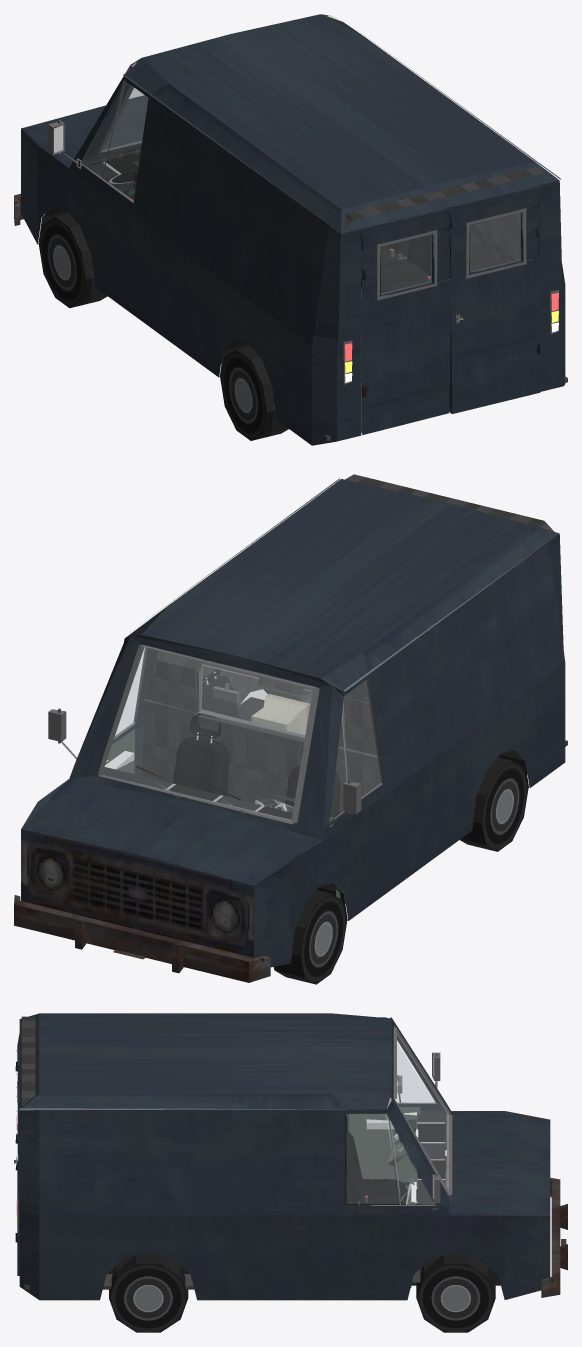
Rendered from rats_van.glb.
3 renders of one model, top to bottom at view 1: azimuth 30°, elevation 25°; view 2: azimuth 150°, elevation 25°; view 3: azimuth 270°, elevation 25°, orthographic. The views are drawn at different scales.
Visible parts, largest first — view 1: Van_Body, Van_Door_R_Body, Van_Door_L_Body, Van_Window_Cab_L, Lobby_Liner, Van_Wheel_RL, Van_Wheel_FL, Van_Door_Window_R, Van_Door_Window_L, Lobby_Seat_RR, Van_Windshield, Cab_Dashboard (+3 smaller); view 2: Van_Body, Van_Windshield, Lobby_Bulkhead, Van_Bumper_Front, Lobby_Bulkhead_Window, Van_Wheel_FL, Van_Window_Cab_L, Van_Wheel_RL, Van_Window_Frames, Cab_Seat_Passenger, Lobby_Liner, Cab_Dashboard (+9 smaller); view 3: Van_Body, Van_Window_Cab_R, Van_Wheel_FR, Van_Wheel_RR, Van_Windshield, Cab_DoorCard_L, Van_Window_Frames, Cab_Seat_Driver, Cab_Dashboard, Van_Bumper_Front, Lobby_Liner, Van_Window_Cab_L (+1 smaller).
Boxes of the visible parts, bbox=[...] form: Van_Body: bbox=[21, 14, 565, 445]; Van_Door_R_Body: bbox=[449, 185, 540, 413]; Van_Door_L_Body: bbox=[361, 207, 451, 434]; Van_Window_Cab_L: bbox=[81, 80, 147, 202]; Lobby_Liner: bbox=[221, 167, 552, 362]; Van_Wheel_RL: bbox=[220, 346, 288, 440]; Van_Wheel_FL: bbox=[39, 213, 107, 308]; Van_Door_Window_R: bbox=[466, 208, 526, 278]; Van_Door_Window_L: bbox=[377, 230, 437, 300]; Lobby_Seat_RR: bbox=[361, 207, 450, 292]; Van_Windshield: bbox=[102, 88, 147, 150]; Cab_Dashboard: bbox=[84, 153, 140, 200]; Van_Body: bbox=[21, 479, 565, 967]; Van_Windshield: bbox=[102, 647, 312, 820]; Lobby_Bulkhead: bbox=[142, 649, 383, 812]; Van_Bumper_Front: bbox=[14, 895, 270, 982]; Lobby_Bulkhead_Window: bbox=[194, 661, 312, 741]; Van_Wheel_FL: bbox=[273, 890, 346, 984]; Van_Window_Cab_L: bbox=[330, 679, 382, 821]; Van_Wheel_RL: bbox=[460, 757, 528, 851]; Van_Window_Frames: bbox=[98, 478, 551, 824]; Cab_Seat_Passenger: bbox=[172, 713, 229, 796]; Lobby_Liner: bbox=[142, 474, 554, 773]; Cab_Dashboard: bbox=[102, 767, 330, 822]; Van_Body: bbox=[19, 1013, 550, 1300]; Van_Window_Cab_R: bbox=[345, 1113, 434, 1205]; Van_Wheel_FR: bbox=[416, 1252, 495, 1332]; Van_Wheel_RR: bbox=[109, 1252, 188, 1332]; Van_Windshield: bbox=[395, 1033, 448, 1190]; Cab_DoorCard_L: bbox=[349, 1107, 420, 1182]; Van_Window_Frames: bbox=[19, 1017, 452, 1195]; Cab_Seat_Driver: bbox=[345, 1114, 407, 1205]; Cab_Dashboard: bbox=[407, 1114, 445, 1204]; Van_Bumper_Front: bbox=[541, 1177, 567, 1297]; Lobby_Liner: bbox=[21, 1016, 35, 1106]; Van_Window_Cab_L: bbox=[395, 1039, 436, 1103].
Size of what is drawn, in the model's own units: 3.8 by 3.15 by 6.98.
Materials: 19 (6 with a texture image).
